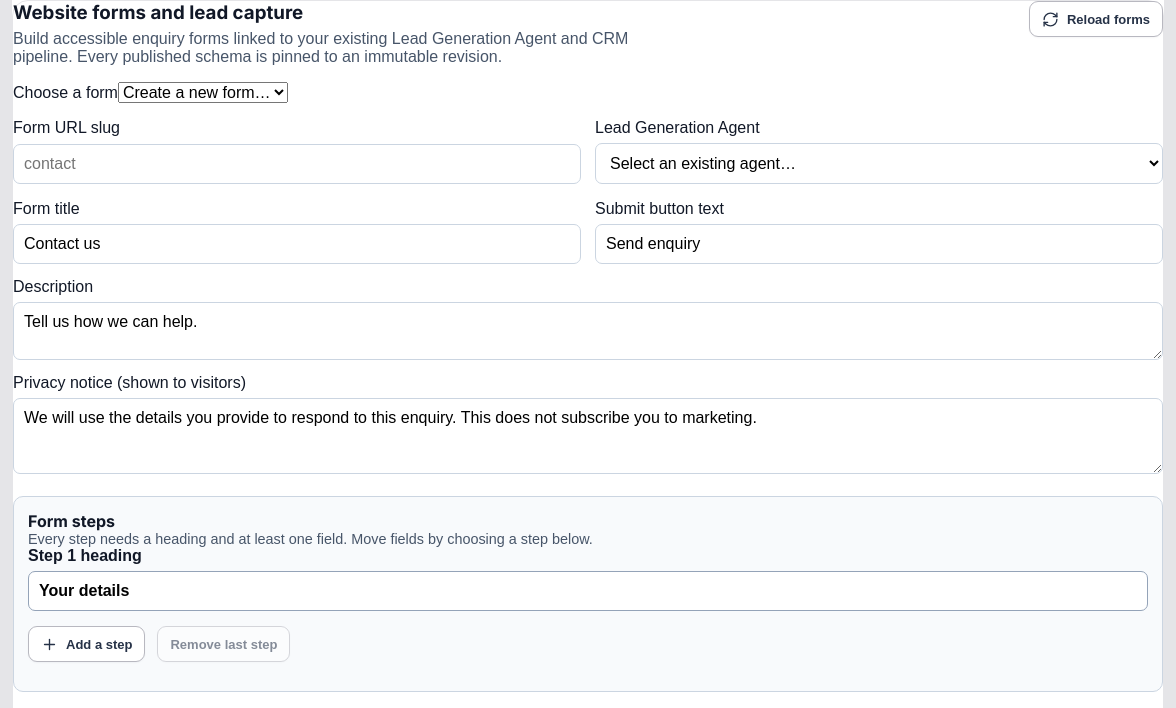
Website CMS site forms editor › uses the existing lead-generation agent, saves private draft and then publishes separately
Type "enquiry" into the field labelled "Form URL slug".
click(297, 164); type("enquiry")  # box 13,144 -> 581,184
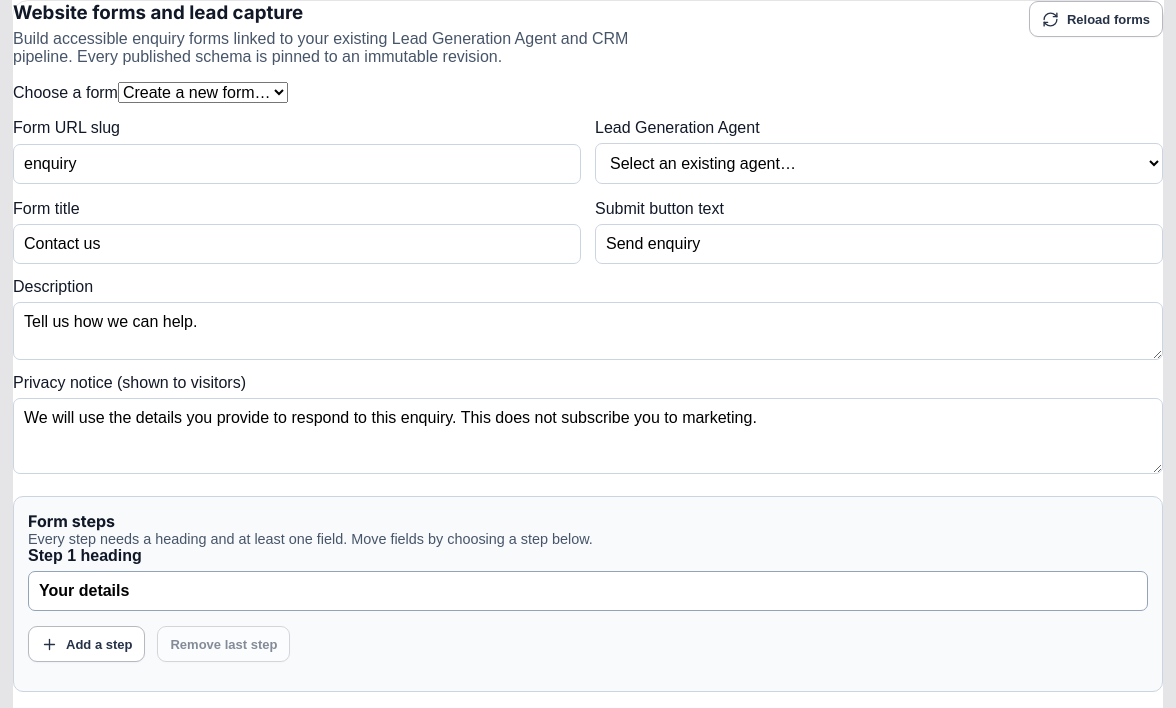
Select "Lead Generation · active" in the dropdown labelled "Lead Generation Agent" at (879, 164), box 595,143 -> 1163,184
(page scrolled)
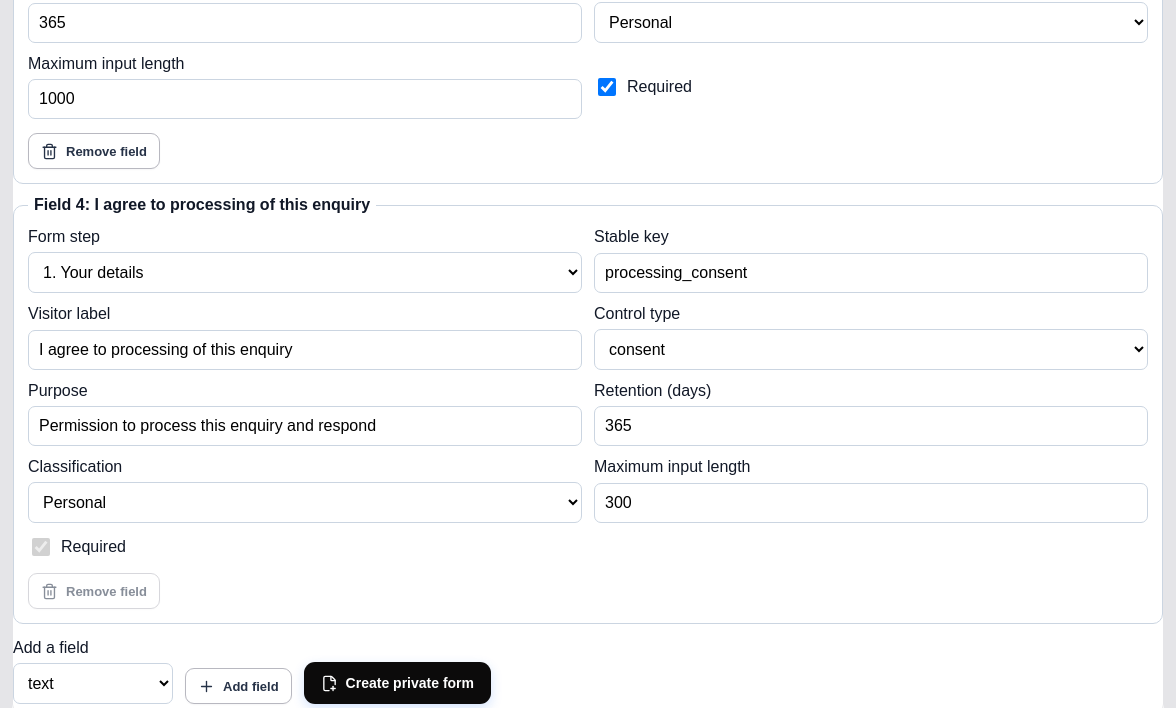
Click the button "Create private form".
click(397, 683)  # box 304,662 -> 491,704
(page scrolled)
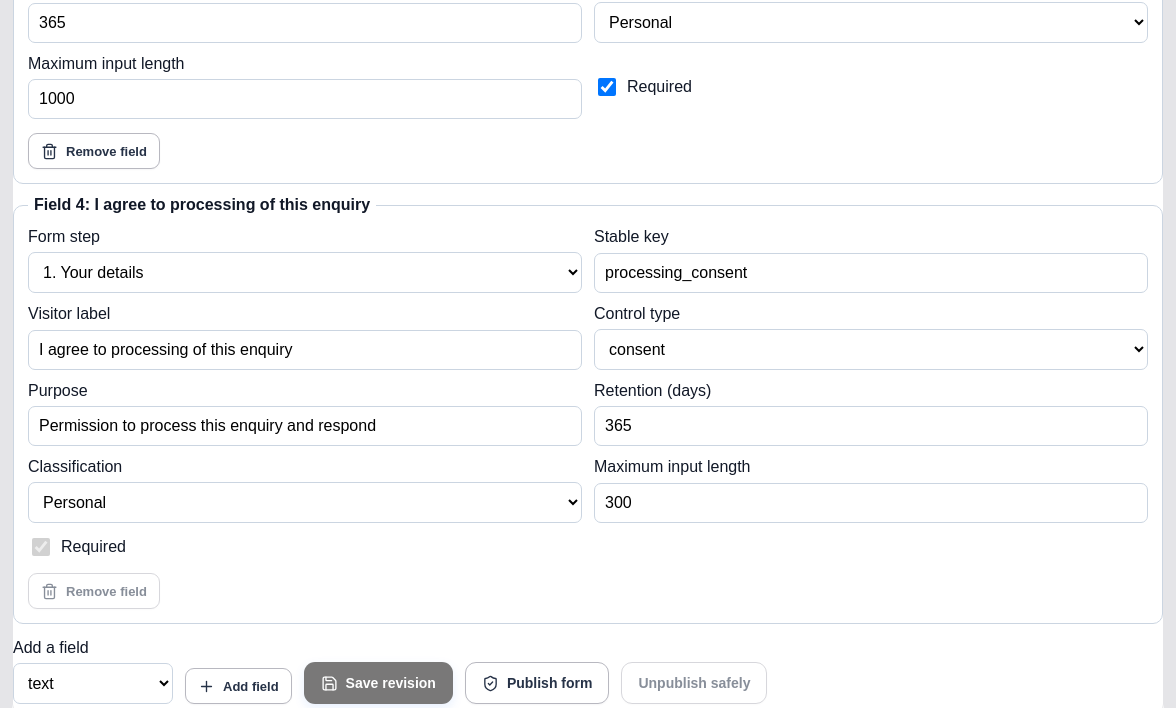
expect the button "Publish form" is enabled: met
Click the button "Publish form".
click(537, 683)  # box 465,662 -> 610,704
(page scrolled)
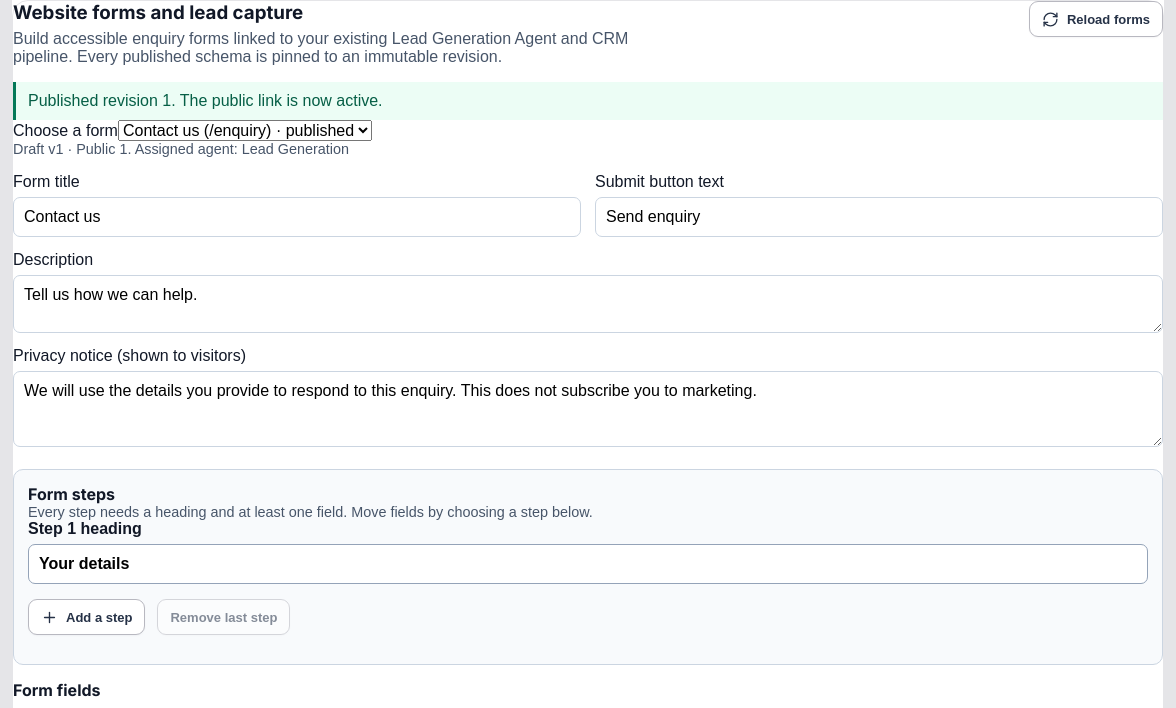
expect the text "Published revision 1. The public link is now active." is shown: met, box 13,82 -> 1163,120
